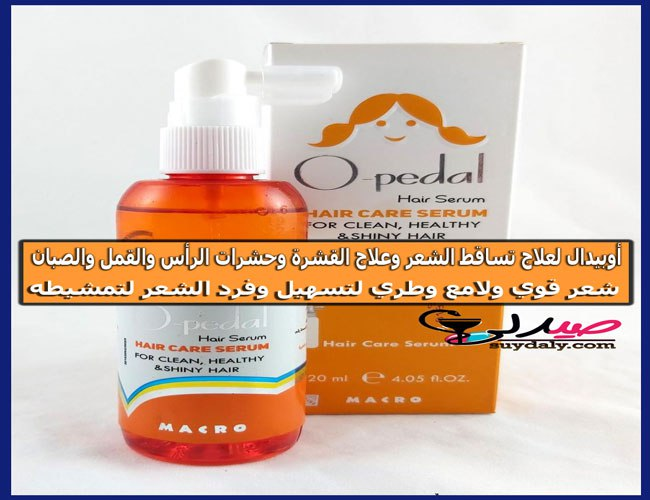Medicine: (260, 30, 511, 439), (101, 47, 317, 461)
